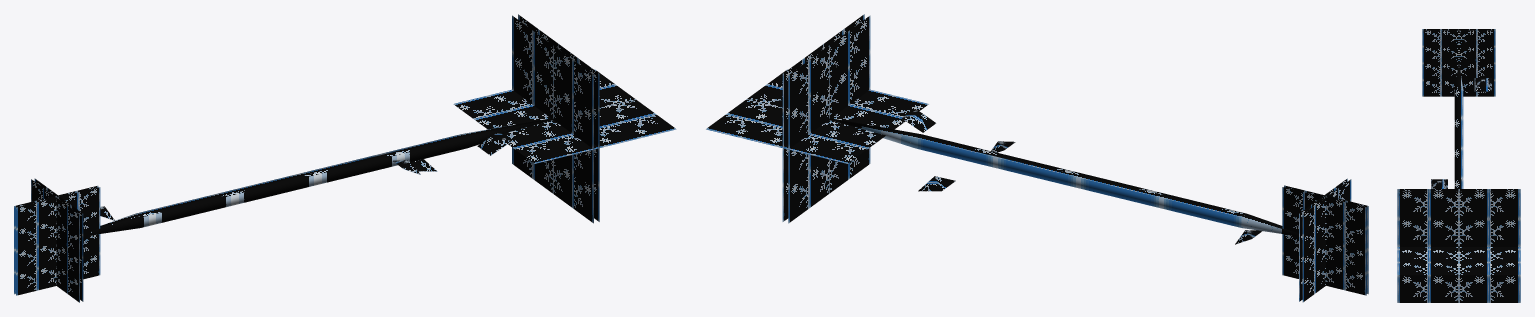
The model's file is 1331sbim03_14_c.gltf.
The picture shows the model from 3 angles, left to right: view 1: azimuth 30°, elevation 25°; view 2: azimuth 150°, elevation 25°; view 3: azimuth 270°, elevation 25°; orthographic projection. The views are drawn at different scales.
Parts seen in each view (by area): view 1: 1331sbim03_14_c; view 2: 1331sbim03_14_c; view 3: 1331sbim03_14_c.
Boxes of the visible parts, <box> form: 1331sbim03_14_c: <box>14,14,676,302</box>; 1331sbim03_14_c: <box>706,14,1368,302</box>; 1331sbim03_14_c: <box>1397,29,1520,302</box>.
Size of the model in its own units: 2.05 by 0.4688 by 0.4688.
Materials: 1 (1 with a texture image).
